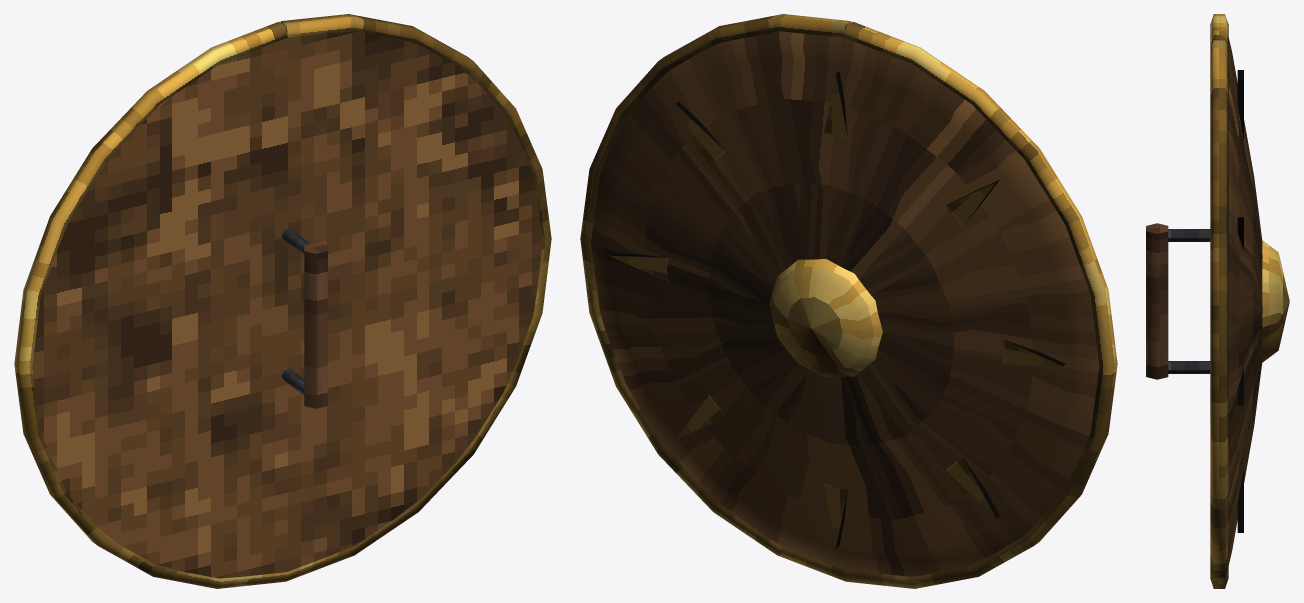
File: sun_bronze.glb
The picture shows the model from 3 angles, left to right: view 1: azimuth 30°, elevation 25°; view 2: azimuth 150°, elevation 25°; view 3: azimuth 270°, elevation 25°; orthographic projection. The views are drawn at different scales.
Parts seen in each view (by area): view 1: sun_bronze; view 2: sun_bronze; view 3: sun_bronze.
Boxes of the visible parts, left/top/right/bottom form: sun_bronze: left=14, top=14, right=551, bottom=588; sun_bronze: left=580, top=14, right=1117, bottom=588; sun_bronze: left=1146, top=14, right=1289, bottom=588.
Size of the model in its own units: 0.5386 by 0.5385 by 0.1341.
1 material, 1 textured.
